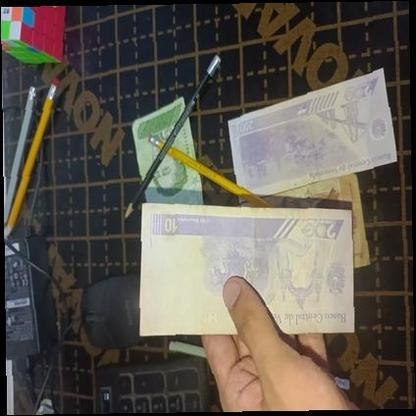fifty-front-vef: (132, 96, 204, 206)
ten-back-vef: (138, 202, 355, 336)
two_hundred-back-vef: (227, 66, 398, 204)
